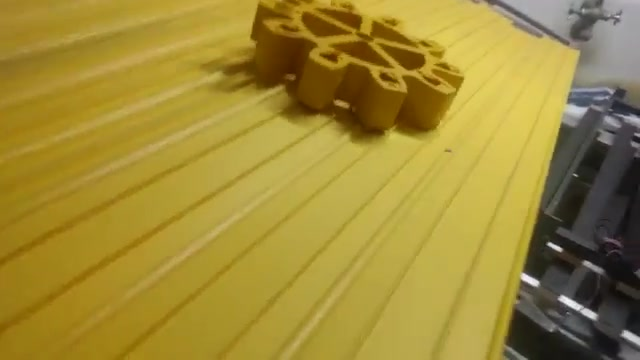gear: (246, 2, 472, 147)
